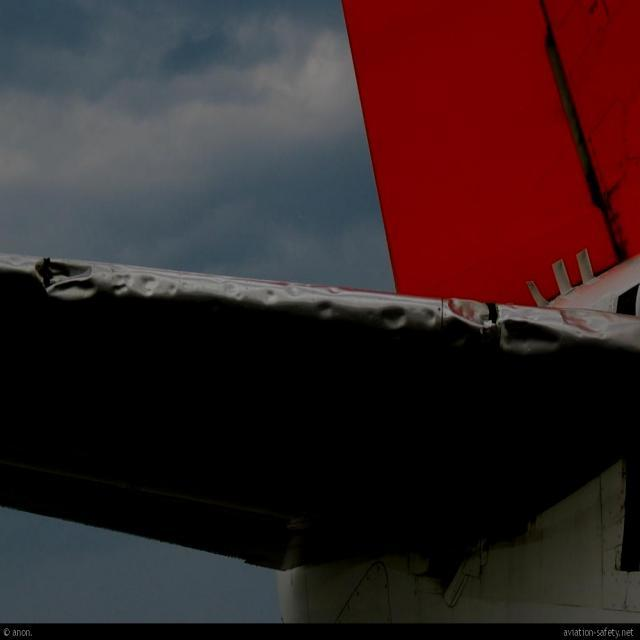dent: (29, 255, 610, 367)
